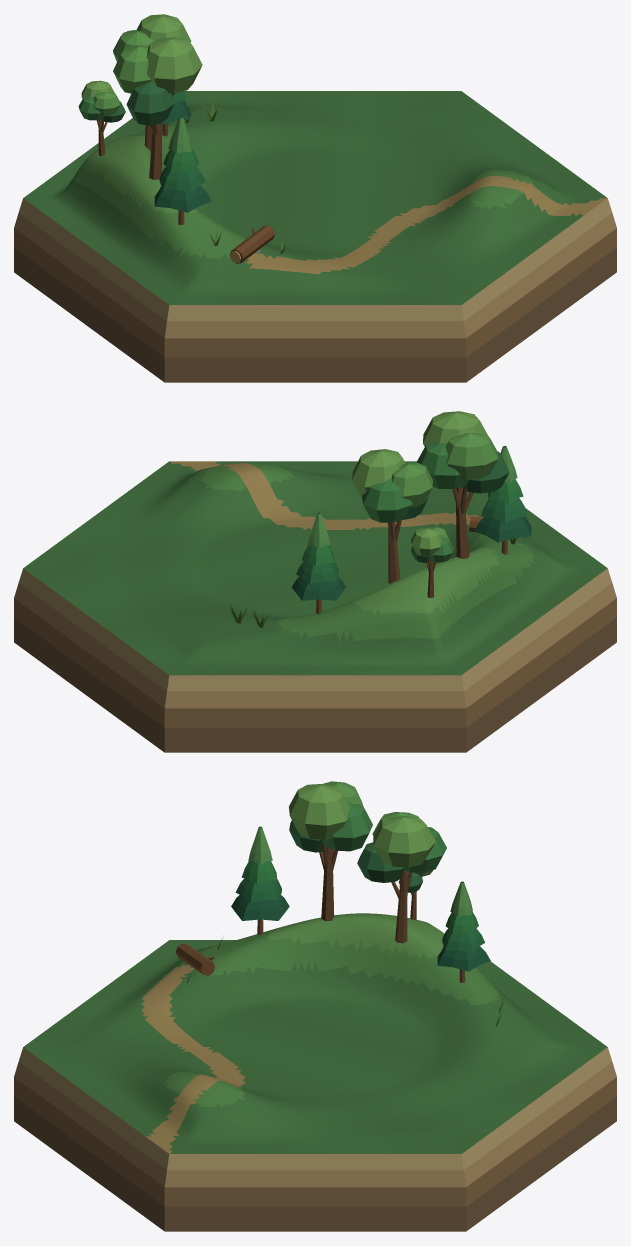
File: catan_terrain_forest_01.glb
The picture shows the model from 3 angles, top to bottom: view 1: azimuth 30°, elevation 25°; view 2: azimuth 150°, elevation 25°; view 3: azimuth 270°, elevation 25°; orthographic projection.
Parts seen in each view (by area): view 1: catan_terrain_forest_01_ground, catan_terrain_forest_01_decoration; view 2: catan_terrain_forest_01_ground, catan_terrain_forest_01_decoration; view 3: catan_terrain_forest_01_ground, catan_terrain_forest_01_decoration.
Part boxes in pixels (box(x1,y1,x2,y2)): catan_terrain_forest_01_ground: box(14, 91, 616, 382); catan_terrain_forest_01_decoration: box(78, 14, 287, 263); catan_terrain_forest_01_ground: box(14, 461, 616, 752); catan_terrain_forest_01_decoration: box(229, 411, 531, 627); catan_terrain_forest_01_ground: box(14, 913, 616, 1231); catan_terrain_forest_01_decoration: box(175, 781, 504, 1026).
Size of the model in its own units: 1.71 by 0.9585 by 1.97.
